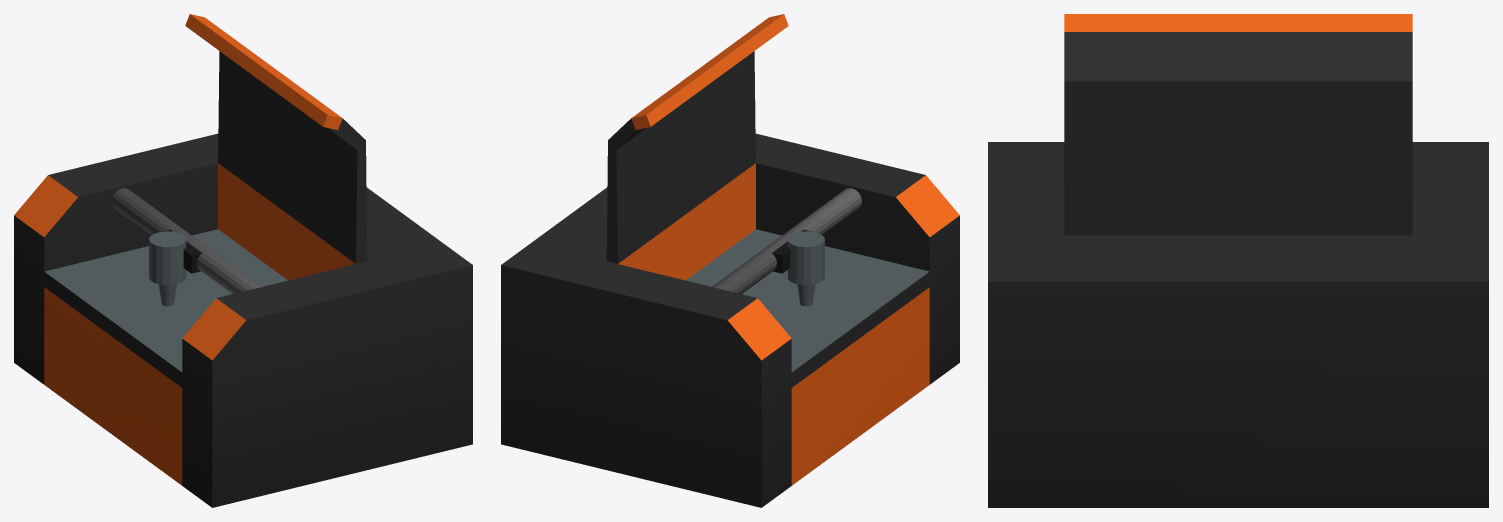
Rendered from Découpeuse Laser.fbx.
The picture shows the model from 3 angles, left to right: view 1: azimuth 30°, elevation 25°; view 2: azimuth 150°, elevation 25°; view 3: azimuth 270°, elevation 25°; orthographic projection. The views are drawn at different scales.
Parts seen in each view (by area): view 1: Cube.124; view 2: Cube.124; view 3: Cube.124.
Boxes of the visible parts, x1=… form: Cube.124: x1=14, y1=14, x2=472, y2=507; Cube.124: x1=501, y1=14, x2=959, y2=507; Cube.124: x1=988, y1=14, x2=1488, y2=507.
Bounding box in the file's own units: 131 × 173 × 161.
